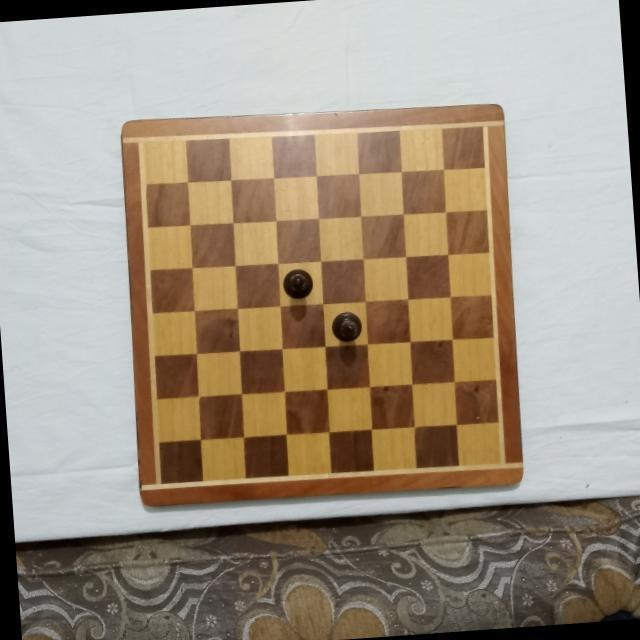black-bishop: (280, 265, 315, 300), (327, 311, 363, 345)
